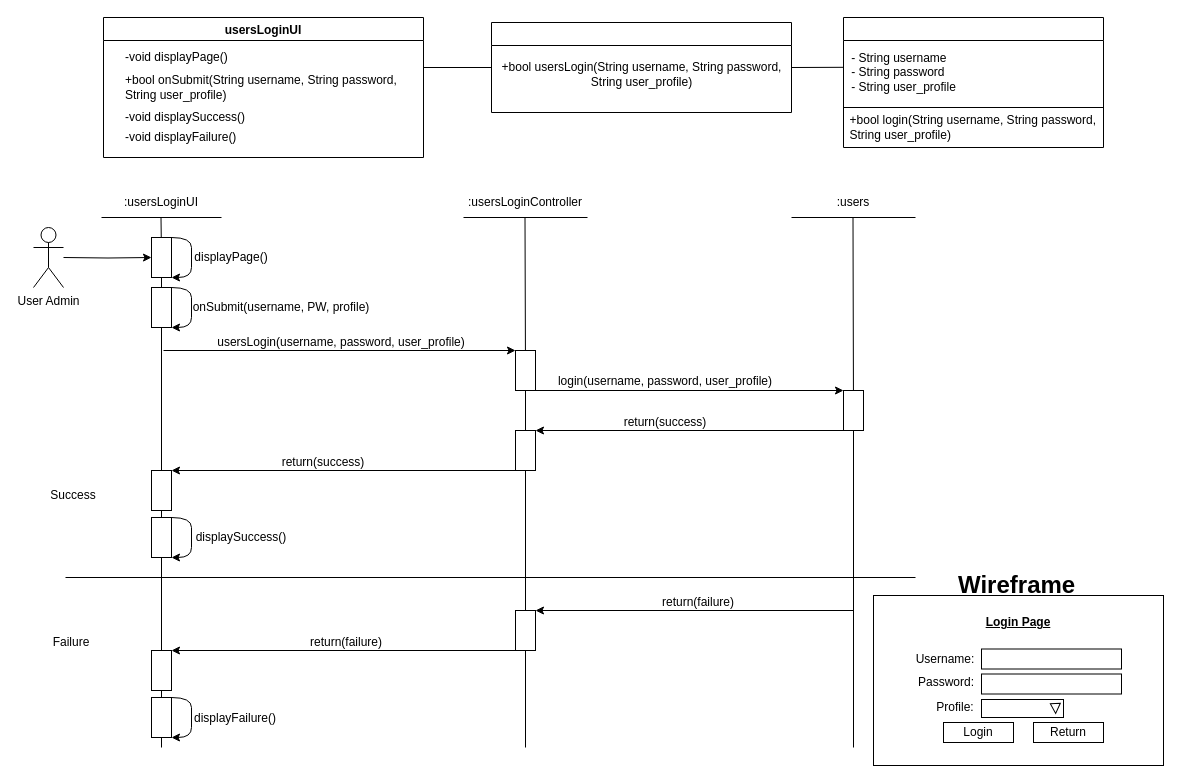
Image size: 1181x783. Some labels were removed from this diagram. The box of each missing label's shape, as (x1, y1, x2, y2) in pixels:
users: (842, 16, 1104, 148)
usersLoginController: (490, 22, 792, 112)
